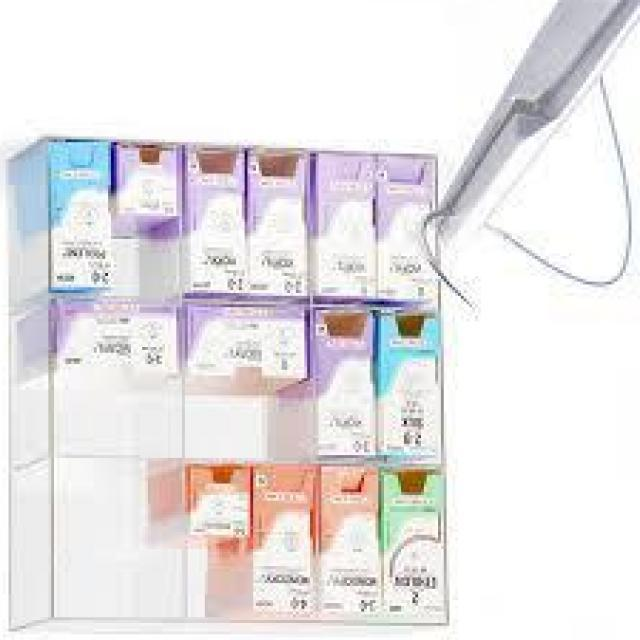Needle: (416, 205, 520, 313)
